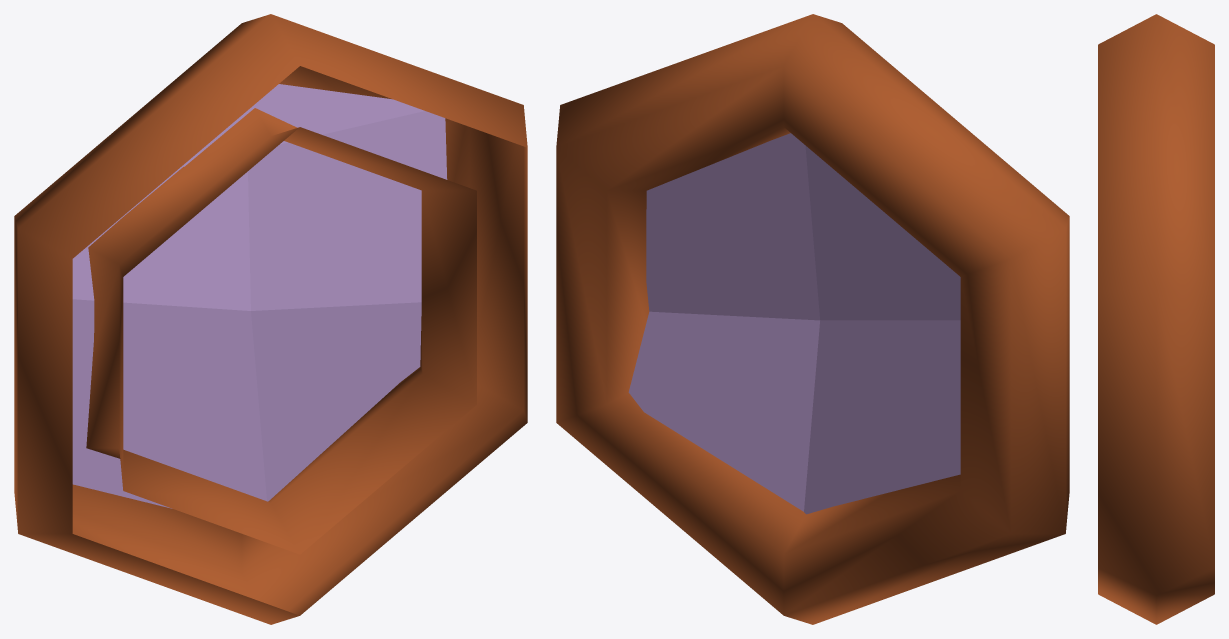
The model's file is props_wall_painting_frame_2.fbx.
The picture shows the model from 3 angles, left to right: view 1: azimuth 30°, elevation 25°; view 2: azimuth 150°, elevation 25°; view 3: azimuth 270°, elevation 25°; orthographic projection.
Parts seen in each view (by area): view 1: Cube.102, Cube.001; view 2: Cube.102, Cube.001; view 3: Cube.102.
Part boxes in pixels (left/top/right/bottom): Cube.102: left=14, top=14, right=527, bottom=624; Cube.001: left=72, top=84, right=447, bottom=508; Cube.102: left=556, top=14, right=1069, bottom=624; Cube.001: left=628, top=133, right=960, bottom=514; Cube.102: left=1098, top=14, right=1214, bottom=624.
Bounding box in the file's own units: 0.6281 × 0.1256 × 0.7252.
